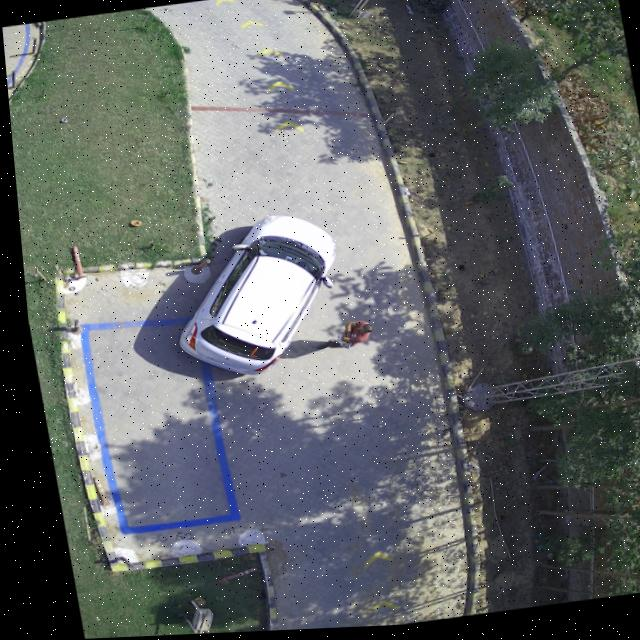car: (171, 218, 330, 377)
